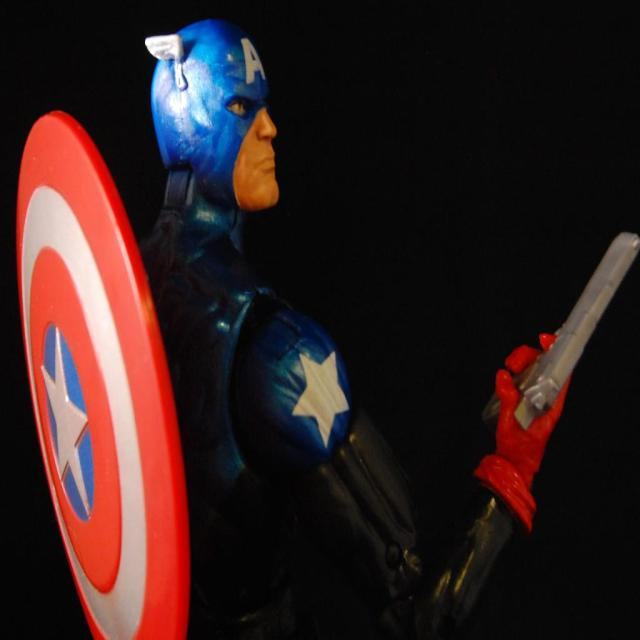Toy: (0, 0, 640, 638), (482, 232, 640, 445)
